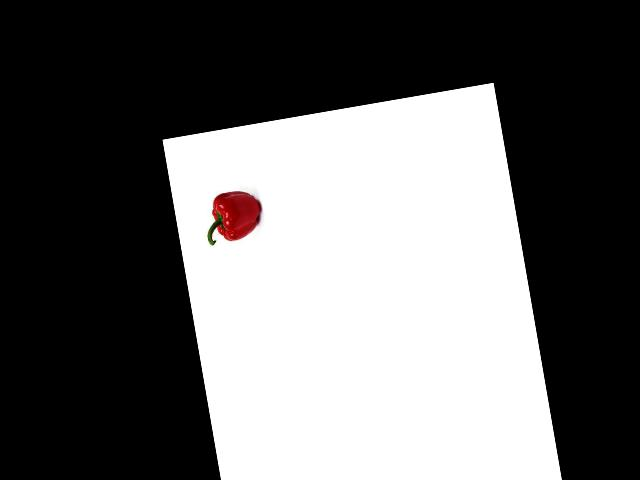bell_pepper: (199, 183, 266, 248)
